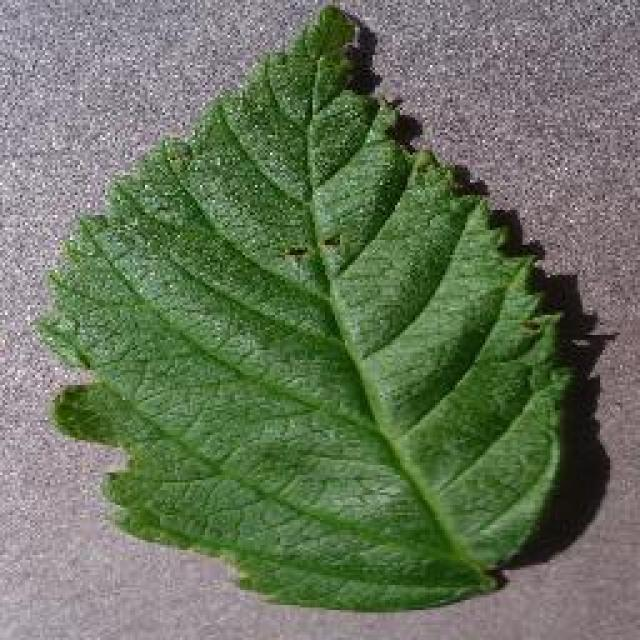Ras_healthy: (76, 68, 590, 590)
